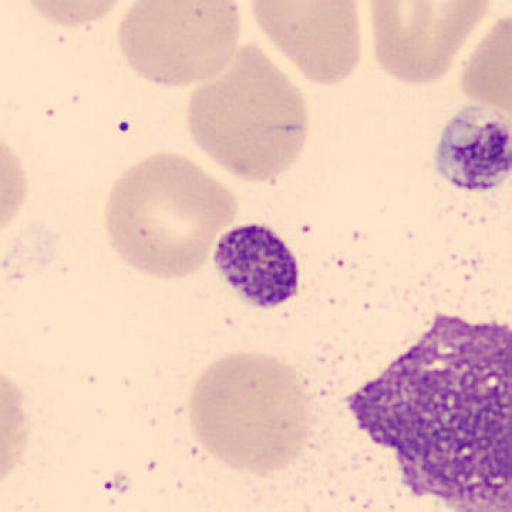Platelet: (211, 222, 304, 310), (429, 105, 512, 194)
RBC: (185, 42, 310, 185), (103, 150, 238, 282), (187, 348, 316, 476), (115, 0, 243, 89), (370, 0, 493, 86), (248, 0, 363, 87), (461, 12, 512, 142), (1, 139, 43, 278), (0, 138, 30, 277), (0, 372, 31, 480), (22, 0, 132, 28), (1, 138, 30, 234)
WBC: (340, 312, 512, 512)
